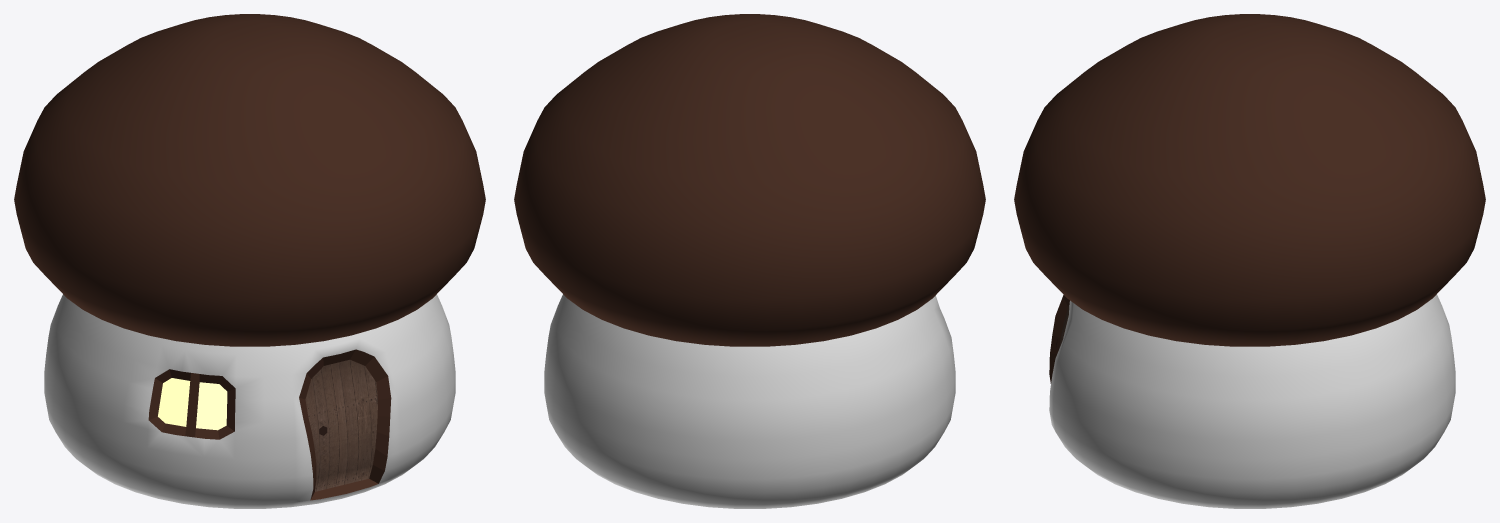
File: brownBigMushroomHouse.glb
3 renders of one model, left to right at view 1: azimuth 30°, elevation 25°; view 2: azimuth 150°, elevation 25°; view 3: azimuth 270°, elevation 25°, orthographic.
Visible parts, largest first — view 1: BrownBigMushroomHouse; view 2: BrownBigMushroomHouse; view 3: BrownBigMushroomHouse.
Boxes of the visible parts, x1,y1,x2,y2 form: BrownBigMushroomHouse: (14, 14, 485, 508); BrownBigMushroomHouse: (514, 14, 985, 508); BrownBigMushroomHouse: (1014, 14, 1485, 508).
Size of what is drawn, in the model's own units: 4.68 by 4.33 by 4.69.
Materials: 3 (2 with a texture image).
